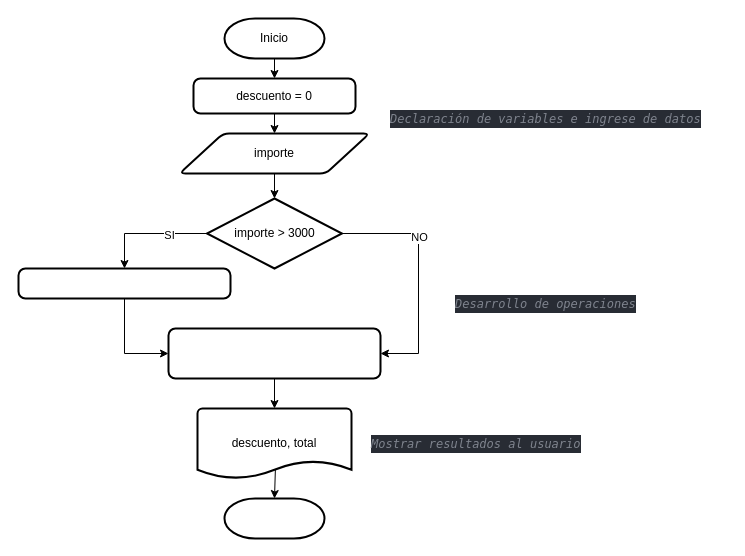
Image size: 745x556. Some labels were removed from this diagram. The box of each missing label's shape, as (x1, y1, x2, y2) in pixels:
descuento = importe * 0.15: (17, 267, 231, 299)
Fin: (223, 497, 325, 539)
total = importe - descuento: (167, 327, 381, 379)
